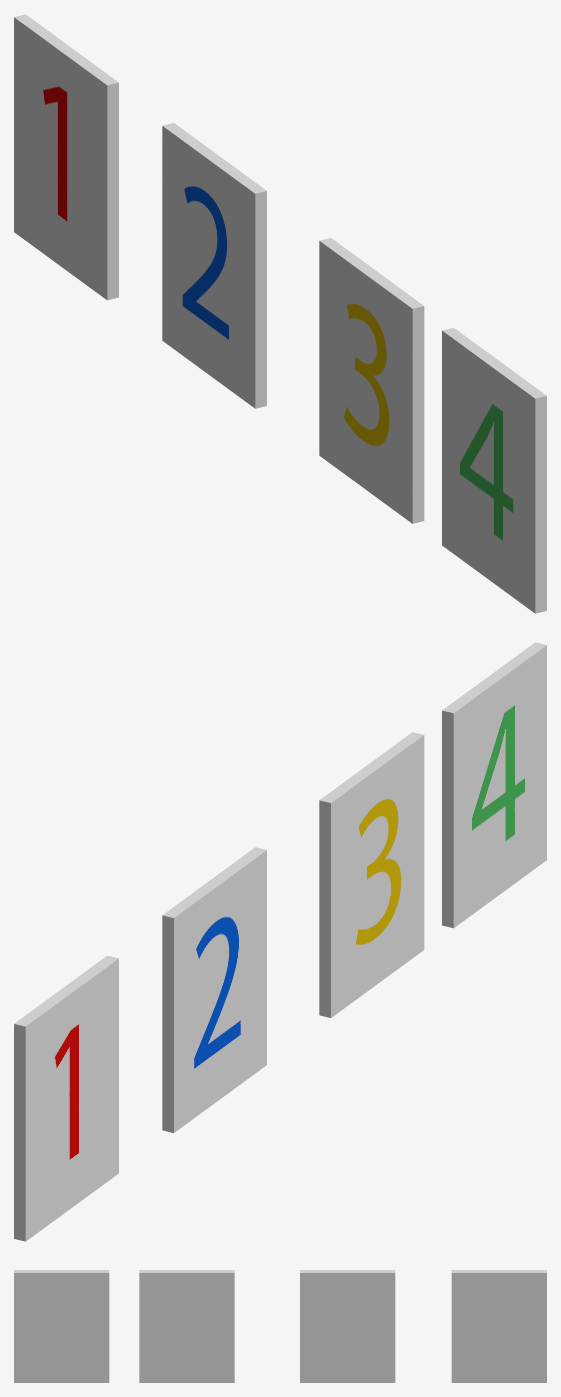
The model's file is papers.fbx.
The picture shows the model from 3 angles, top to bottom: view 1: azimuth 30°, elevation 25°; view 2: azimuth 150°, elevation 25°; view 3: azimuth 270°, elevation 25°; orthographic projection. The views are drawn at different scales.
Parts seen in each view (by area): view 1: Cube.002, Cube, Cube.003, Cube.001; view 2: Cube.002, Cube, Cube.003, Cube.001; view 3: Cube, Cube.001, Cube.002, Cube.003.
Boxes of the visible parts, x1=… form: Cube.002: x1=319, y1=238, x2=424, y2=523; Cube: x1=14, y1=14, x2=118, y2=300; Cube.003: x1=442, y1=327, x2=546, y2=613; Cube.001: x1=162, y1=123, x2=266, y2=408; Cube.002: x1=319, y1=732, x2=424, y2=1017; Cube: x1=14, y1=955, x2=118, y2=1241; Cube.003: x1=442, y1=642, x2=546, y2=928; Cube.001: x1=162, y1=847, x2=266, y2=1132; Cube: x1=451, y1=1270, x2=546, y2=1382; Cube.001: x1=300, y1=1270, x2=395, y2=1382; Cube.002: x1=139, y1=1270, x2=234, y2=1382; Cube.003: x1=14, y1=1270, x2=109, y2=1382.
Size of the model in its own units: 1.6 by 28 by 123.
